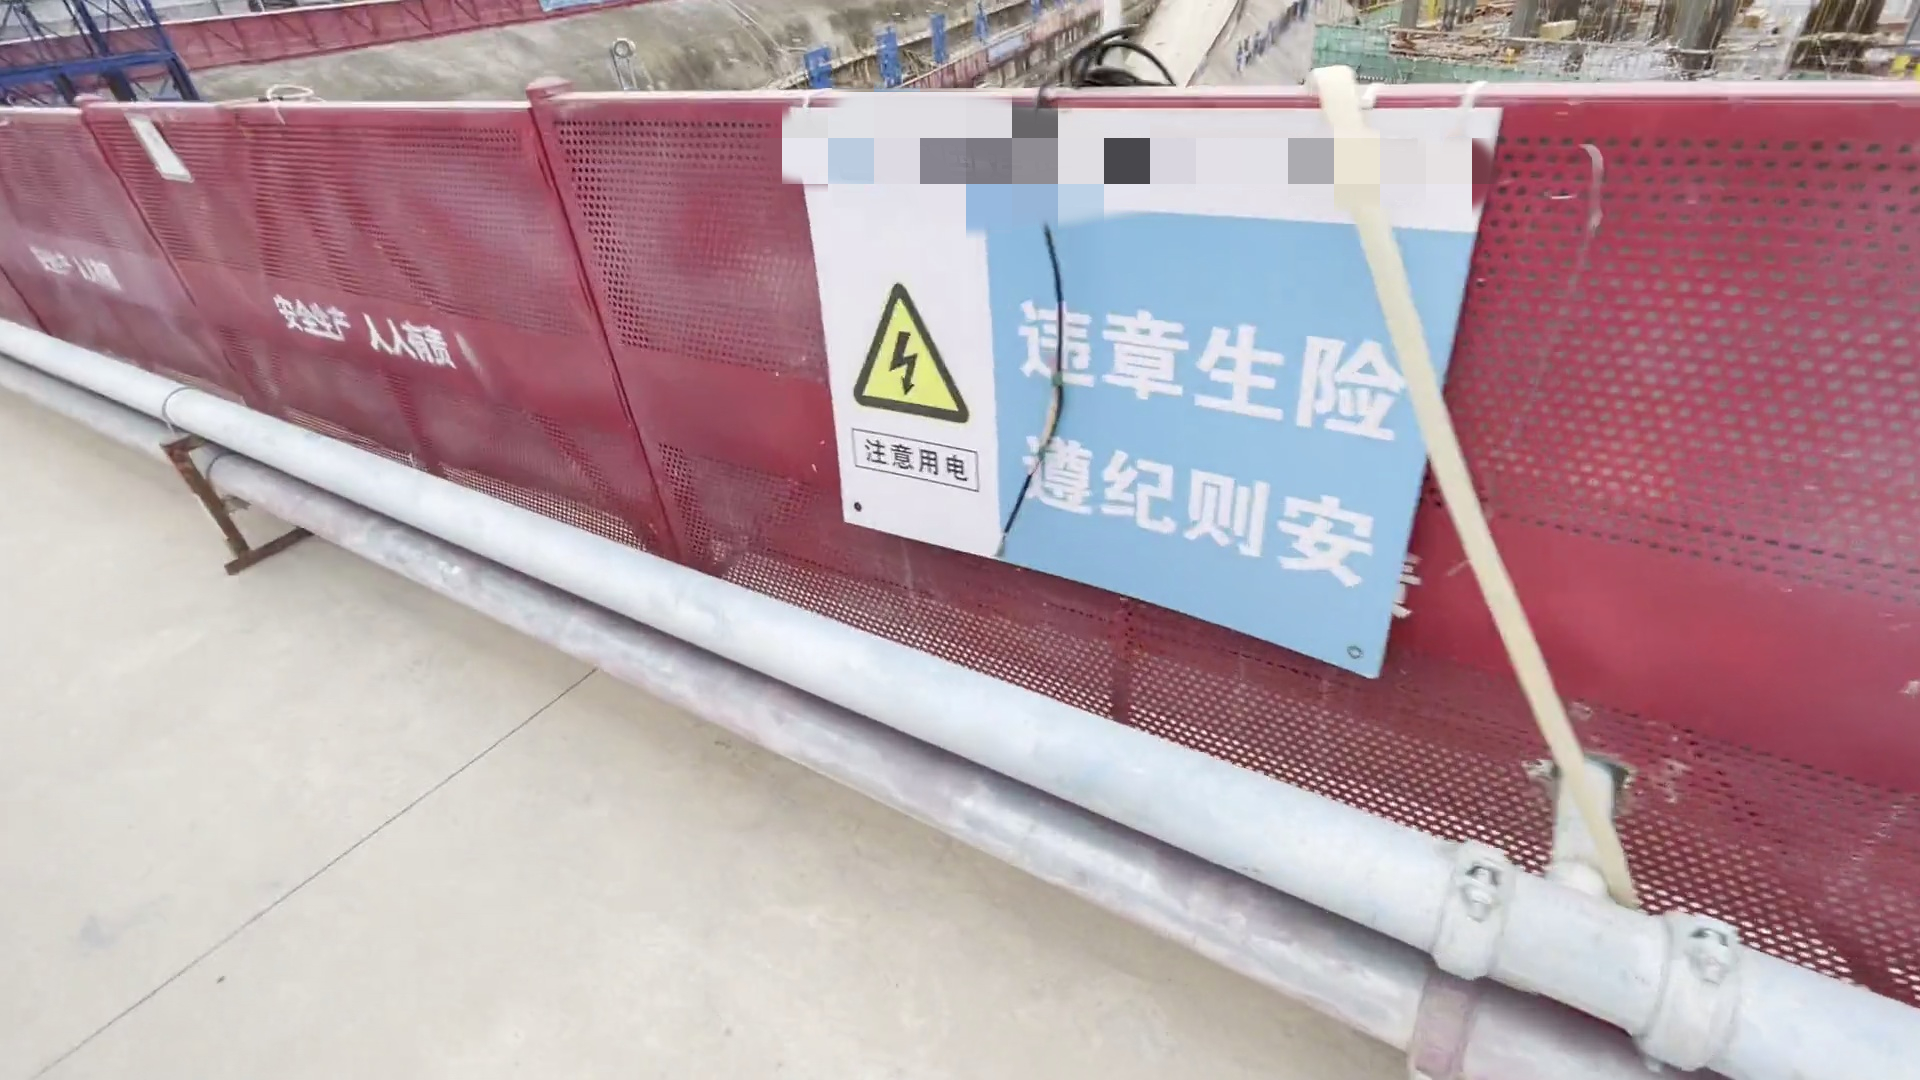fence: (1, 40, 1904, 992)
slogan: (798, 109, 1427, 647)
